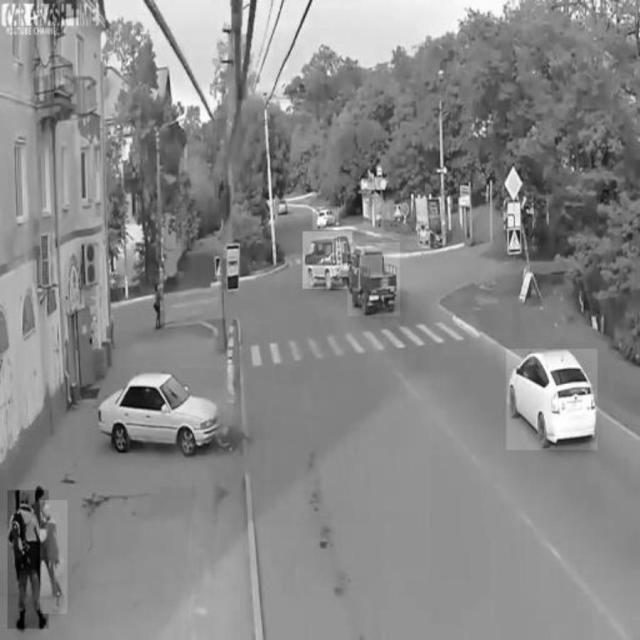person: (8, 490, 49, 628), (41, 501, 68, 614)
vehicle: (96, 369, 224, 457), (507, 349, 598, 450), (348, 243, 400, 316), (303, 233, 353, 290), (313, 207, 339, 231)
